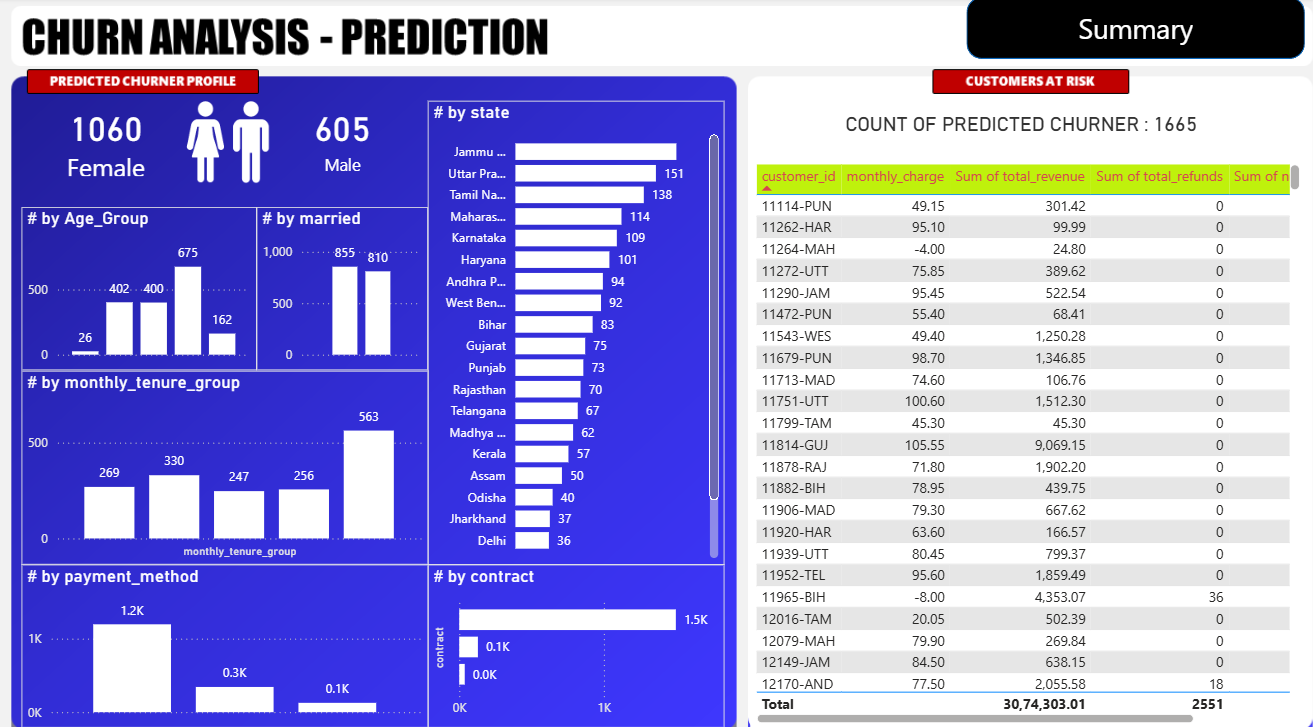

The dashboard page shown, as its layout file describes it:
{"tool":"powerbi","page":{"name":"churn_prediction","canvas":[1280,720],"ordinal":2},"visuals":[{"type":"tableEx","fields":{"Values":["Predictions.customer_id","Predictions.monthly_charge","Sum(Predictions.total_revenue)","Sum(Predictions.total_refunds)","Sum(Predictions.number_of_referrals)"]},"box":[725.3,156.4,535.1,548.9],"z":0},{"type":"advanceCardE03760C5AB684758B56AA29F9E6C257B","fields":{"mainMeasure":["New_data_measure.Title predicted churner"]},"box":[785.1,88.9,403.3,67.5],"z":1000},{"type":"advanceCardE03760C5AB684758B56AA29F9E6C257B","fields":{"mainMeasure":["New_data_measure.Count predicted Churner"]},"box":[257.6,99.7,147.2,78.2],"z":2000},{"type":"advanceCardE03760C5AB684758B56AA29F9E6C257B","fields":{"mainMeasure":["New_data_measure.Count predicted Churner"]},"box":[23,99.7,161,78.2],"z":3000},{"type":"clusteredColumnChart","fields":{"Category":["Age_group.Age_Group"],"Y":["CountNonNull(Predictions.customer_id)"]},"box":[21.5,202.4,226.9,157.9],"z":4000},{"type":"clusteredColumnChart","fields":{"Y":["CountNonNull(Predictions.customer_id)"],"Category":["Predictions.payment_method"]},"box":[21.5,547.4,392.5,157.9],"z":5000},{"type":"clusteredColumnChart","fields":{"Y":["CountNonNull(Predictions.customer_id)"],"Category":["Predictions.married"]},"box":[248.4,202.4,165.6,157.9],"z":6000},{"type":"clusteredColumnChart","fields":{"Y":["CountNonNull(Predictions.customer_id)"],"Category":["Tenure_in_Month_group.monthly_tenure_group"]},"box":[21.5,360.3,392.5,187.1],"z":7000},{"type":"clusteredBarChart","fields":{"Category":["Predictions.contract"],"Y":["CountNonNull(Predictions.customer_id)"]},"box":[414,547.4,286.7,157.9],"z":8000},{"type":"clusteredBarChart","fields":{"Y":["CountNonNull(Predictions.customer_id)"],"Category":["Predictions.state"]},"box":[414,99.7,286.7,447.7],"z":9000},{"type":"image","box":[147.2,88.9,147.2,99.7],"z":10000},{"type":"shape","box":[933.8,0,326.6,59.8],"z":11000}]}

Visuals, with their boxes in screenshot pixels (x1, y1, x2, y2), scaled from the page's 1280x720 canvas onto the 1313x727 screenshot:
tableEx - Predictions.customer_id x Predictions.monthly_charge: detection(744, 158, 1293, 712)
advanceCardE03760C5AB684758B56AA29F9E6C257B - New_data_measure.Title predicted churner: detection(805, 90, 1219, 158)
advanceCardE03760C5AB684758B56AA29F9E6C257B - New_data_measure.Count predicted Churner: detection(264, 101, 415, 180)
advanceCardE03760C5AB684758B56AA29F9E6C257B - New_data_measure.Count predicted Churner: detection(24, 101, 189, 180)
clusteredColumnChart - Age_group.Age_Group x CountNonNull(Predictions.customer_id): detection(22, 204, 255, 364)
clusteredColumnChart - CountNonNull(Predictions.customer_id) x Predictions.payment_method: detection(22, 553, 425, 712)
clusteredColumnChart - CountNonNull(Predictions.customer_id) x Predictions.married: detection(255, 204, 425, 364)
clusteredColumnChart - CountNonNull(Predictions.customer_id) x Tenure_in_Month_group.monthly_tenure_group: detection(22, 364, 425, 553)
clusteredBarChart - Predictions.contract x CountNonNull(Predictions.customer_id): detection(425, 553, 719, 712)
clusteredBarChart - CountNonNull(Predictions.customer_id) x Predictions.state: detection(425, 101, 719, 553)
image: detection(151, 90, 302, 190)
shape: detection(958, 0, 1293, 60)
